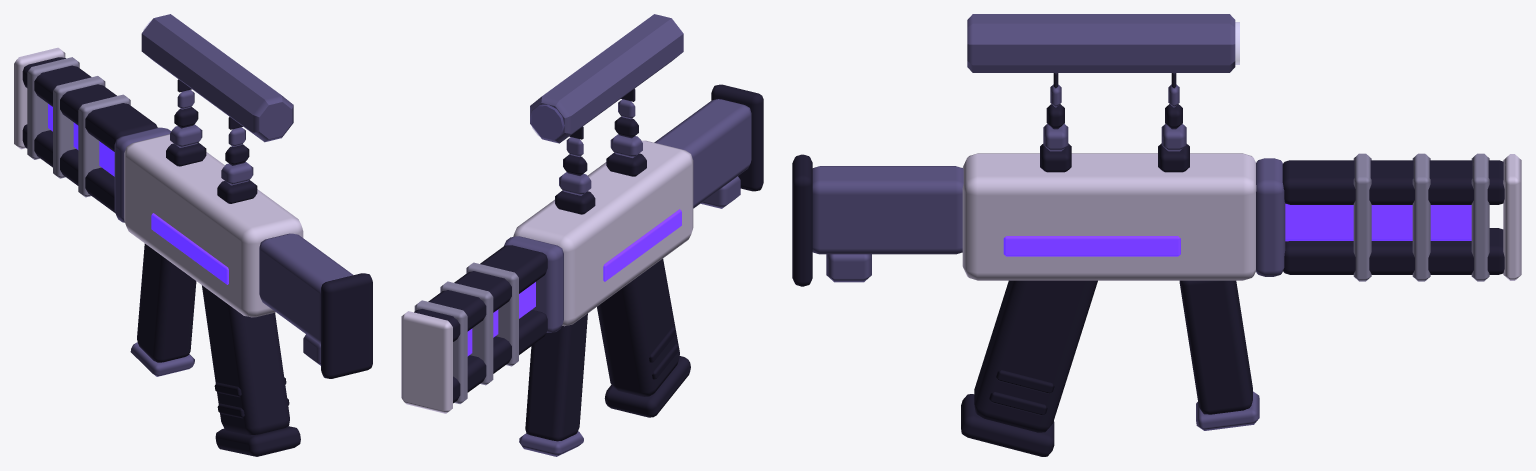
The model's file is rail_rifle.glb.
3 renders of one model, left to right at view 1: azimuth 30°, elevation 25°; view 2: azimuth 150°, elevation 25°; view 3: azimuth 270°, elevation 25°, orthographic. The views are drawn at different scales.
Parts seen in each view (by area): view 1: item.rail_rifle.body, part.mag; view 2: item.rail_rifle.body, part.mag; view 3: item.rail_rifle.body, part.mag.
Part boxes in pixels (x1,y1,x2,y2): item.rail_rifle.body: (14,14,372,456); part.mag: (130,243,196,376); item.rail_rifle.body: (401,14,763,417); part.mag: (519,313,587,456); item.rail_rifle.body: (792,14,1521,456); part.mag: (1179,280,1259,430).
Bounding box in the file's own units: 0.1219 × 0.6484 × 1.
